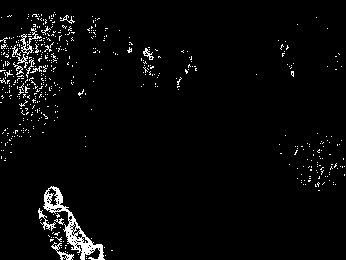person: (37, 186, 104, 260)
